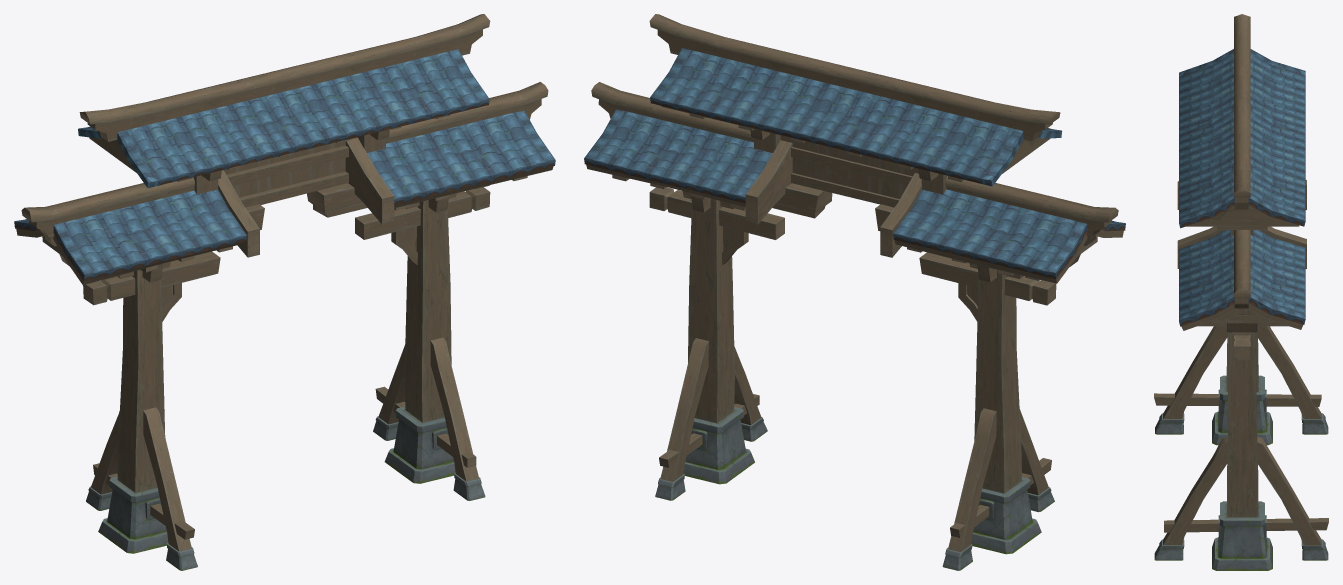
Rendered from Homeworld_Exterior_Ly_Build_Door_01_Lod0.fbx.
3 renders of one model, left to right at view 1: azimuth 30°, elevation 25°; view 2: azimuth 150°, elevation 25°; view 3: azimuth 270°, elevation 25°, orthographic. The views are drawn at different scales.
Parts seen in each view (by area): view 1: Area_Ly_Build_Common_Archway_02_Lod0; view 2: Area_Ly_Build_Common_Archway_02_Lod0; view 3: Area_Ly_Build_Common_Archway_02_Lod0.
Part boxes in pixels (x1,y1,x2,y2): Area_Ly_Build_Common_Archway_02_Lod0: (14,14,555,570); Area_Ly_Build_Common_Archway_02_Lod0: (584,14,1125,570); Area_Ly_Build_Common_Archway_02_Lod0: (1154,14,1328,570).
Size of the model in its own units: 7.48 by 6.04 by 2.43.
